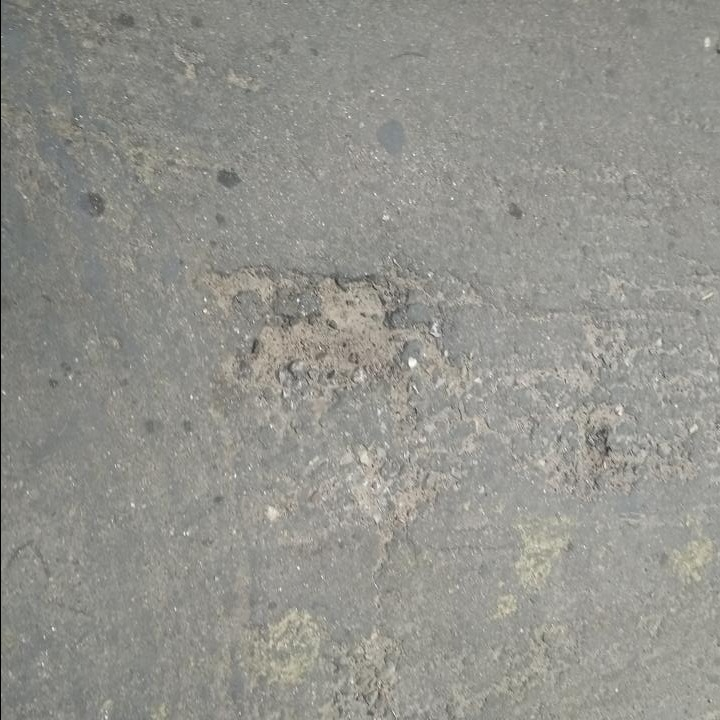pothole: (216, 259, 412, 414), (578, 424, 614, 486)
